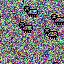sheep: (18, 21, 34, 34), (24, 5, 38, 17), (50, 13, 64, 25), (44, 27, 58, 39)
